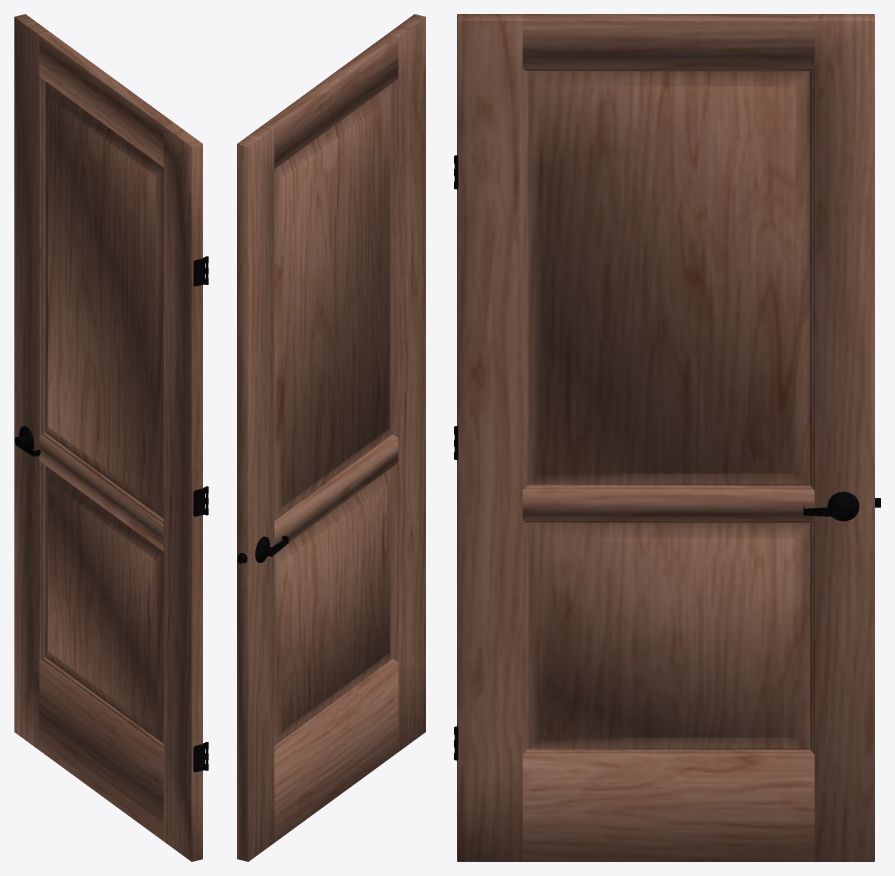
File: visual_Door_right_door_two_panel_wood_dark.dae
The picture shows the model from 3 angles, left to right: view 1: azimuth 30°, elevation 25°; view 2: azimuth 150°, elevation 25°; view 3: azimuth 270°, elevation 25°; orthographic projection. The views are drawn at different scales.
Visible parts, largest first — view 1: visual_Door_right_door_two_panel_wood_dark; view 2: visual_Door_right_door_two_panel_wood_dark; view 3: visual_Door_right_door_two_panel_wood_dark.
Boxes of the visible parts, x1,y1,x2,y2 form: visual_Door_right_door_two_panel_wood_dark: (14, 14, 208, 861); visual_Door_right_door_two_panel_wood_dark: (237, 14, 425, 861); visual_Door_right_door_two_panel_wood_dark: (454, 14, 880, 861).
Size of the model in its own units: 0.0977 by 0.9313 by 2.03.
1 material, 1 textured.
